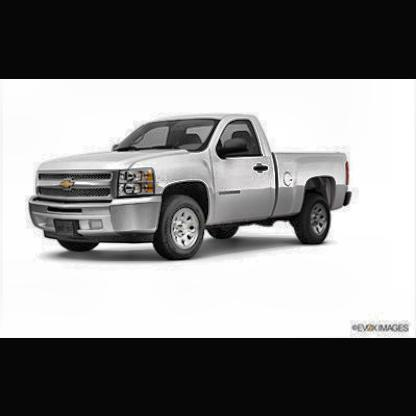Chevrolet Silverado 2500HD Regular Cab 2012: (30, 112, 355, 264)
